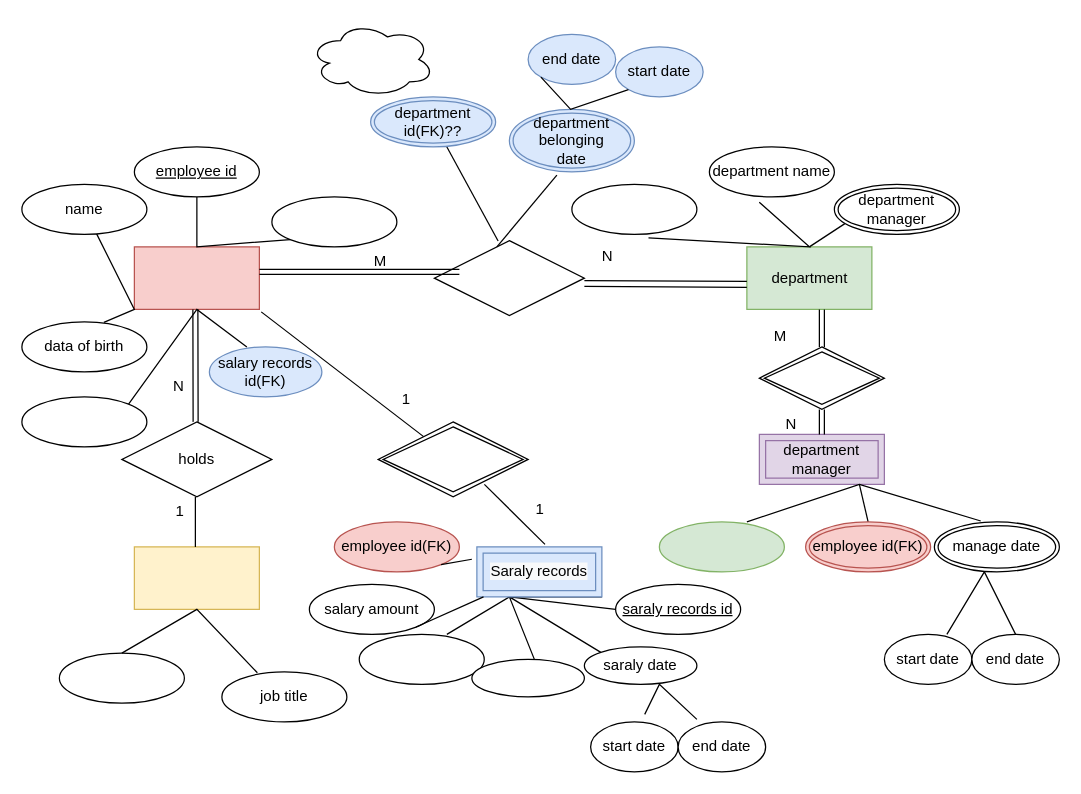
The diagram is 1081 pixels wide and 794 high, and some of its shapes have lost their labels. Here are the shapes that lost their labels. From the top down, the box of each, then its label:
(308, 21, 434, 97): employee's department records
(271, 196, 397, 247): gender
(571, 183, 697, 234): department id
(133, 246, 259, 309): Employees
(433, 239, 584, 316): belongs
(758, 346, 884, 409): manage
(21, 396, 147, 447): hire date
(377, 421, 528, 497): has
(658, 521, 784, 572): department id(FK)
(133, 546, 259, 609): Lob Title
(58, 652, 184, 703): job title id
(358, 633, 484, 684): reason id
(471, 658, 584, 697): reason
